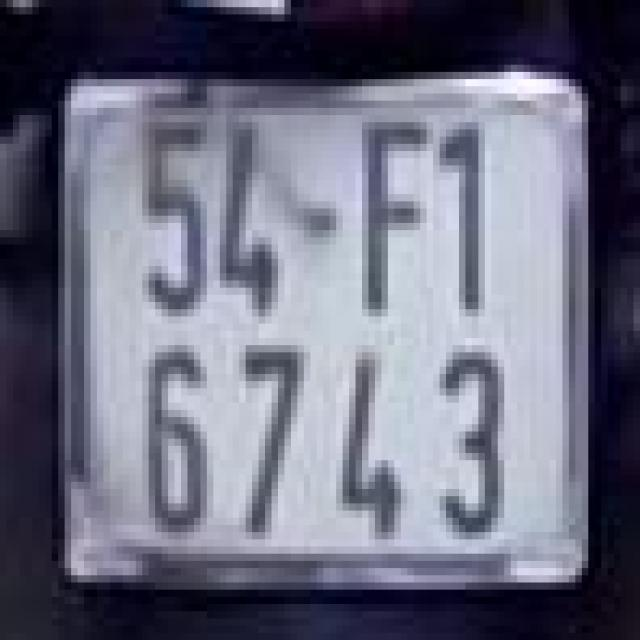1: (433, 108, 504, 331)
3: (430, 338, 520, 568)
4: (323, 348, 414, 572), (216, 104, 288, 327)
5: (136, 90, 213, 327)
6: (126, 331, 223, 539)
7: (233, 334, 304, 543)
F: (336, 108, 427, 331)
